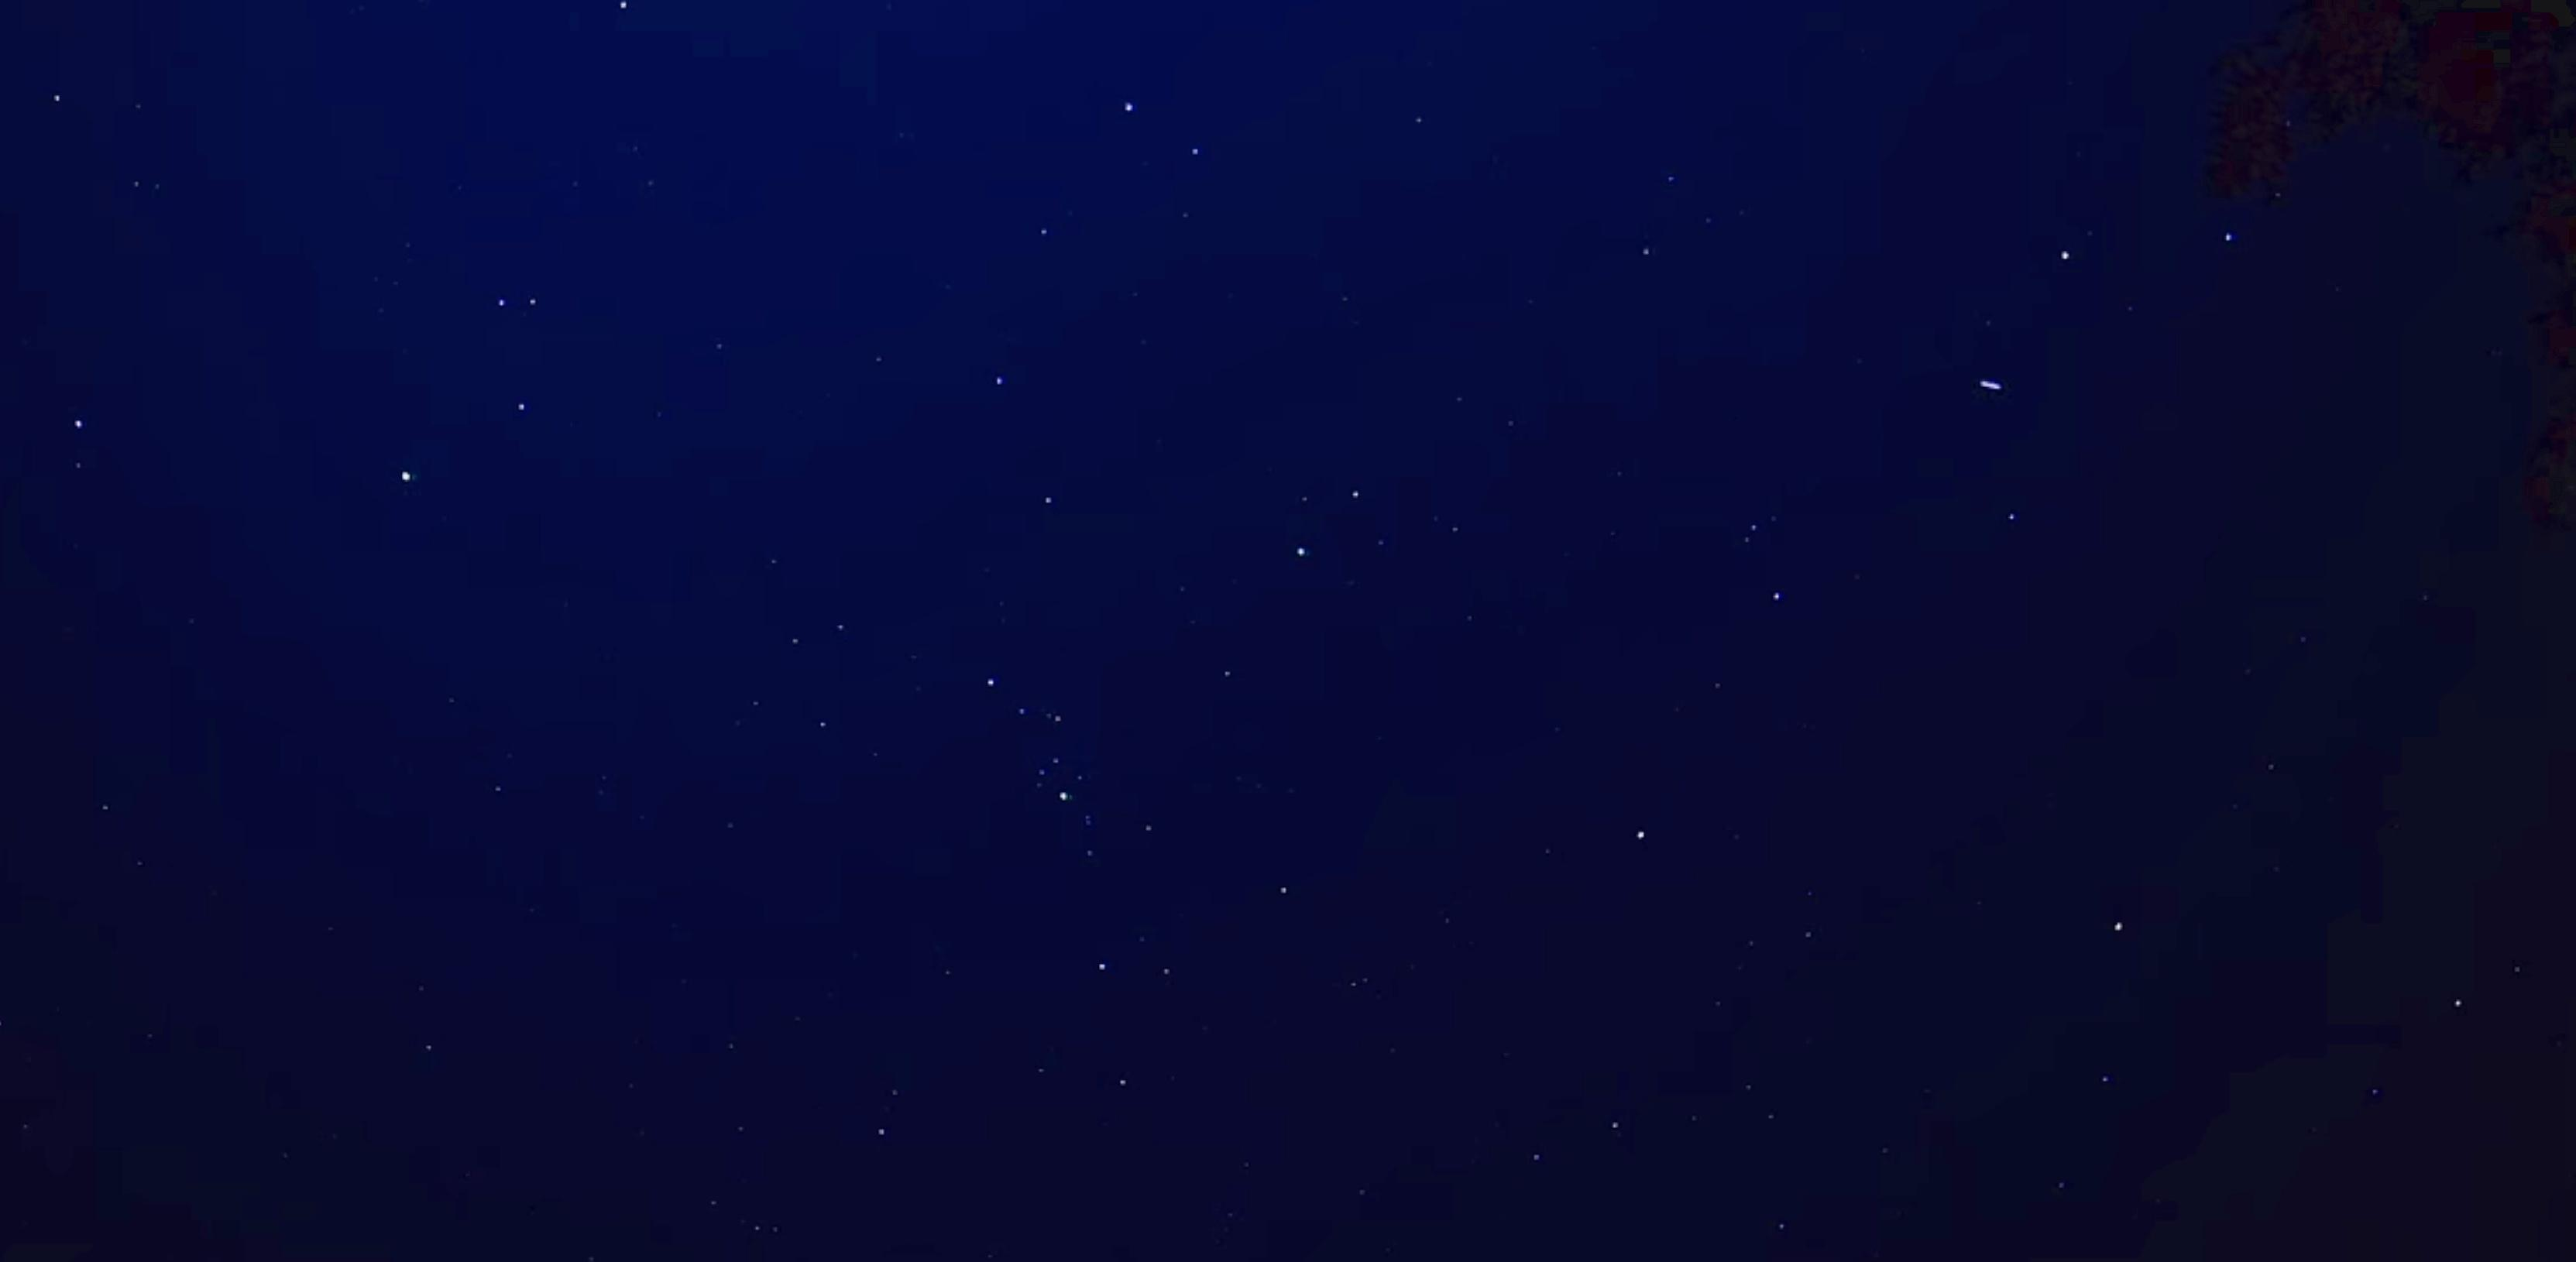meteorite: (1948, 370, 2032, 399)
